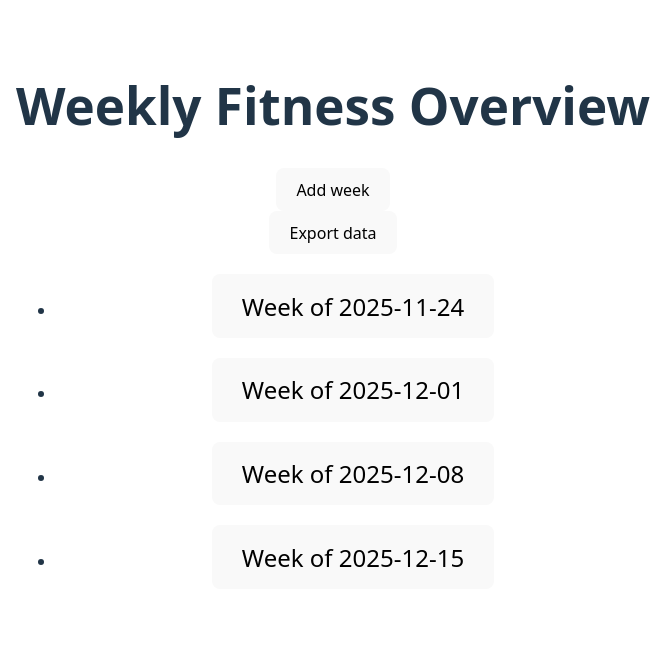
it: WeeklyOverviewPage › add week: cancel closes the picker without adding anything
The width and height of the screenshot is (667, 658).
Click the button "Add week". click: (333, 190)
box: [276,168,390,211]
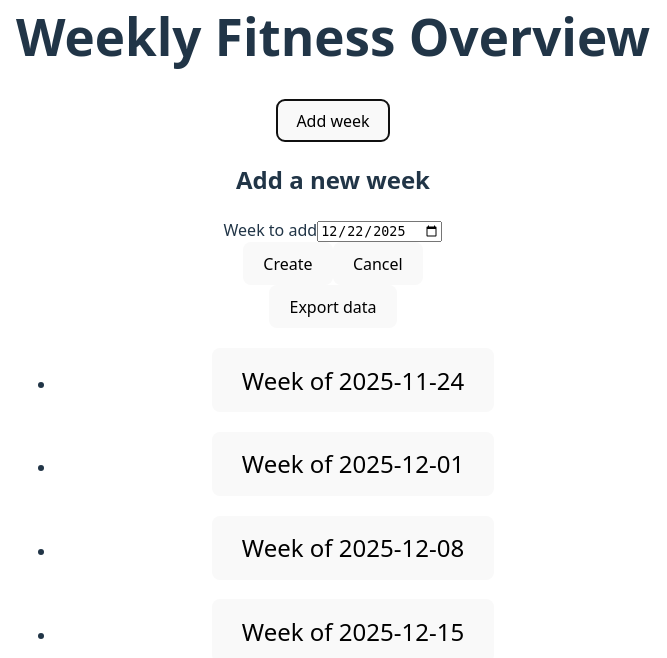
Click the button "Cancel". click: (378, 264)
box: [333,242,423,285]
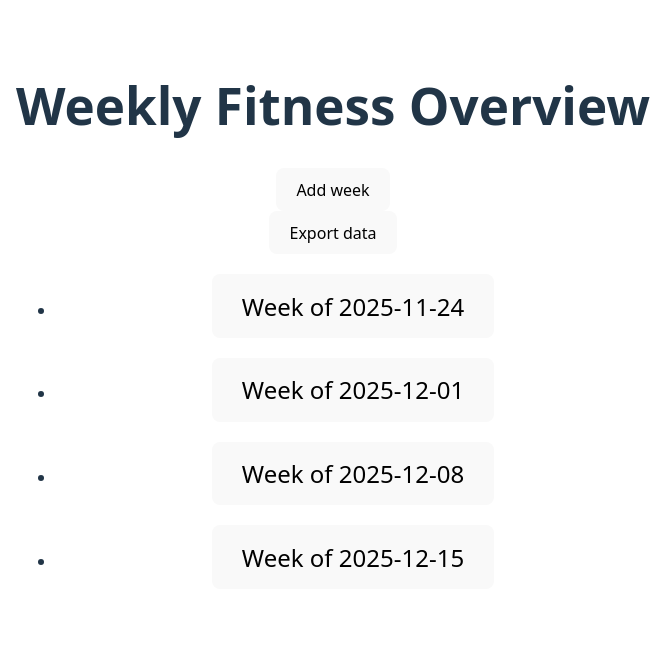
expect the element with test id "add-week-form" is gone: met
